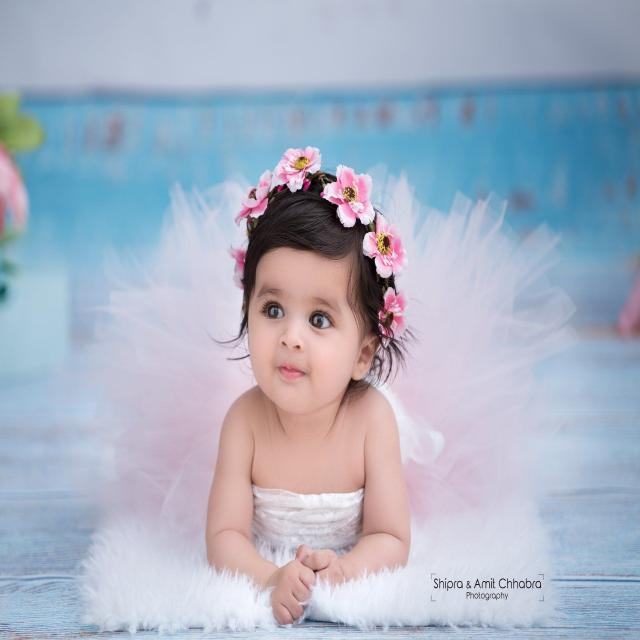non-dog: (210, 190, 411, 624)
